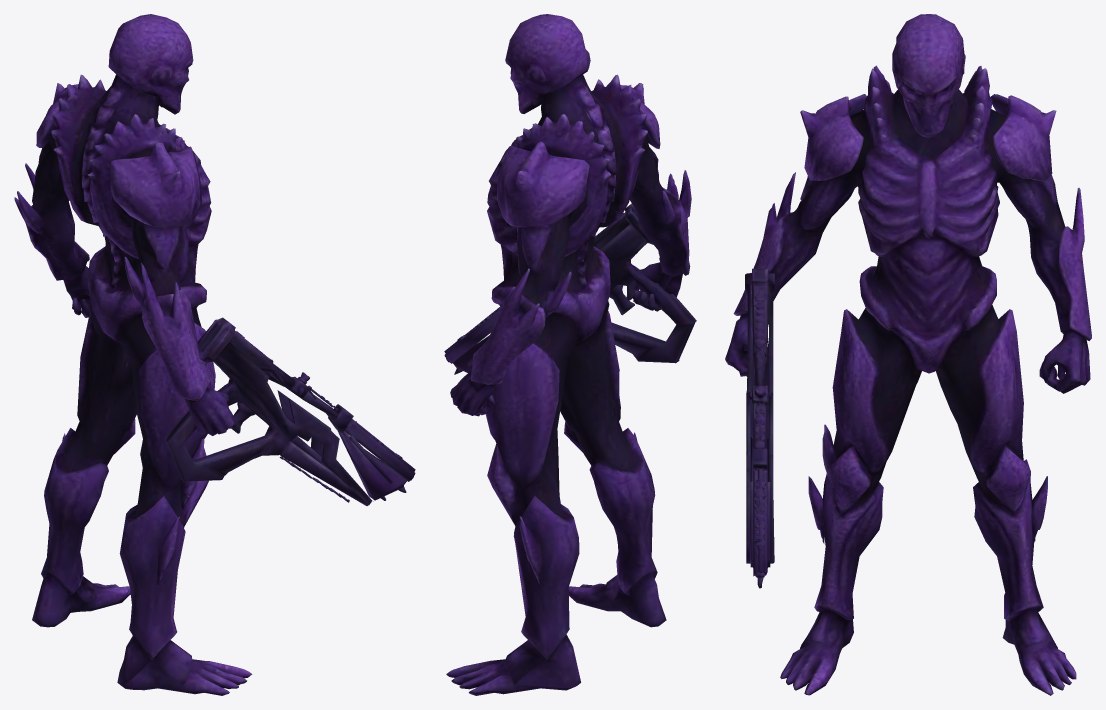
The model's file is host-trooper.glb.
3 views of the same model, side by side, from view 1: azimuth 30°, elevation 25°; view 2: azimuth 150°, elevation 25°; view 3: azimuth 270°, elevation 25° (orthographic). The views are drawn at different scales.
Parts seen in each view (by area): view 1: tripo_node_80237684-1501-4094-a9ae-98e5c68bffd8; view 2: tripo_node_80237684-1501-4094-a9ae-98e5c68bffd8; view 3: tripo_node_80237684-1501-4094-a9ae-98e5c68bffd8.
Part boxes in pixels (left/top/right/bottom): tripo_node_80237684-1501-4094-a9ae-98e5c68bffd8: left=14, top=14, right=415, bottom=695; tripo_node_80237684-1501-4094-a9ae-98e5c68bffd8: left=444, top=14, right=696, bottom=695; tripo_node_80237684-1501-4094-a9ae-98e5c68bffd8: left=725, top=14, right=1091, bottom=695.
Size of the model in its own units: 0.4404 by 1 by 0.5069.
Materials: 1 (1 with a texture image).
